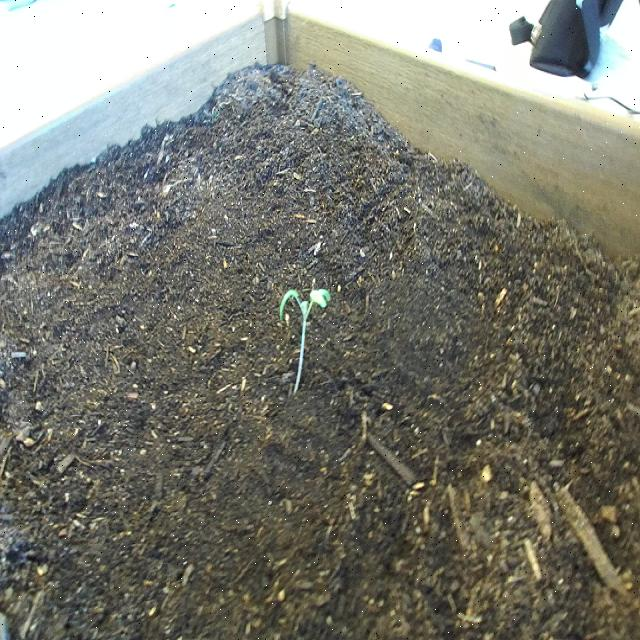Healthy: (277, 279, 335, 403)
